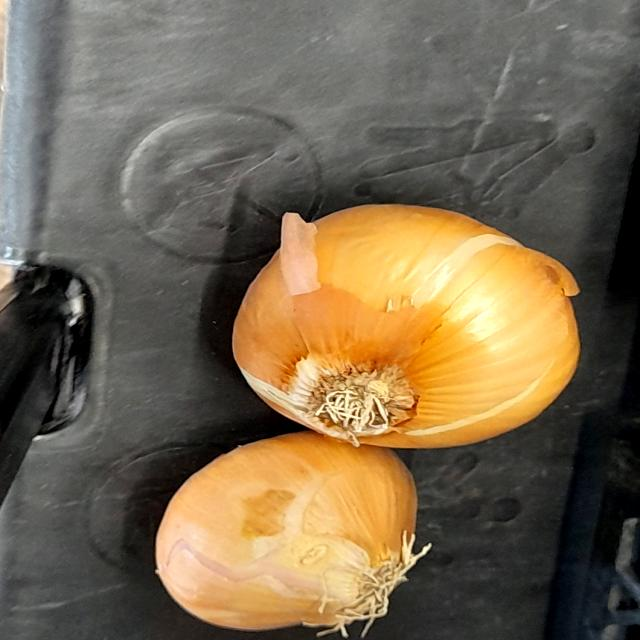onion: (210, 190, 599, 454), (132, 430, 435, 640)
